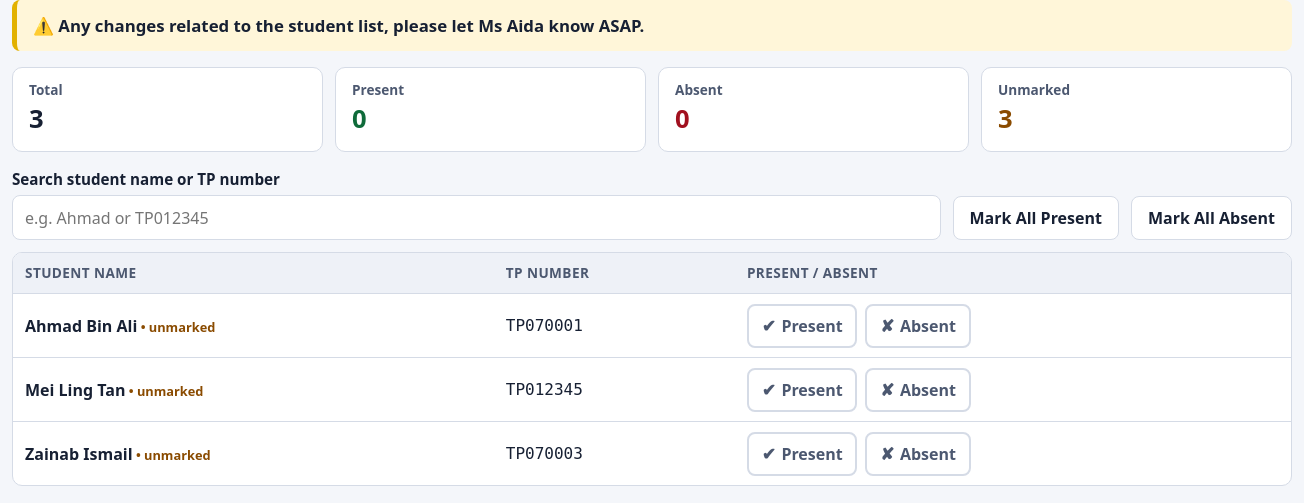
it: AttendanceMarker (§11.4, AC-004, AC-005, AC-011) › search filters by name or TP and keeps selections when cleared (AC-005)
Type "tp0123" into the search field labelled "Search student name or TP number".
click(476, 218); type("tp0123")  # box [12,195,940,240]
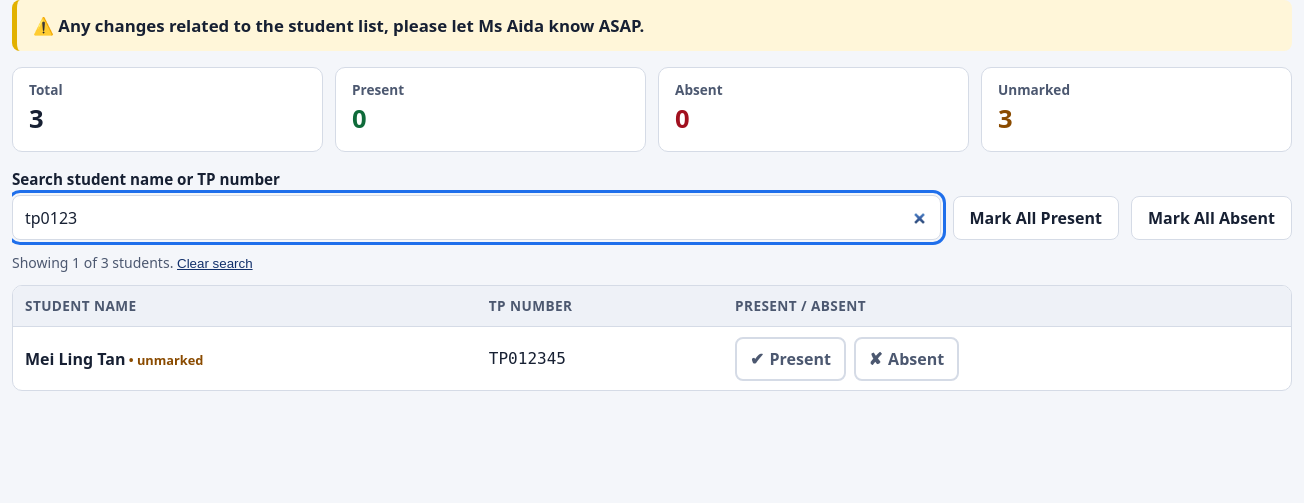
Click the radio button labelled "✘ Absent".
click(906, 358)  # box [854,336,959,380]
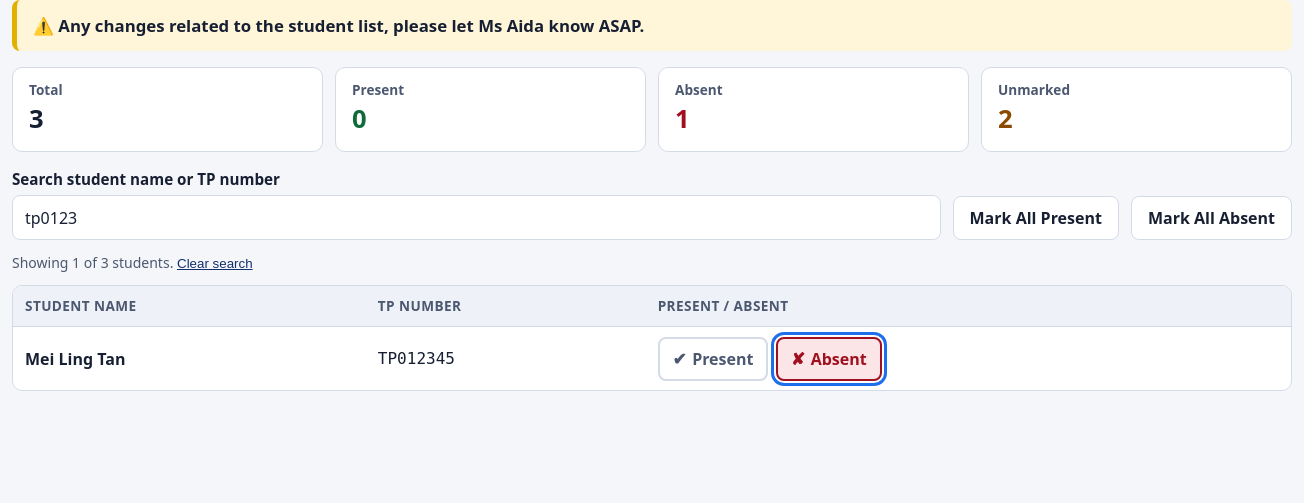
Replace the text in the search field labelled "Search student name or TP number" with "ZAIN" at (476, 218), box [12,195,940,240]
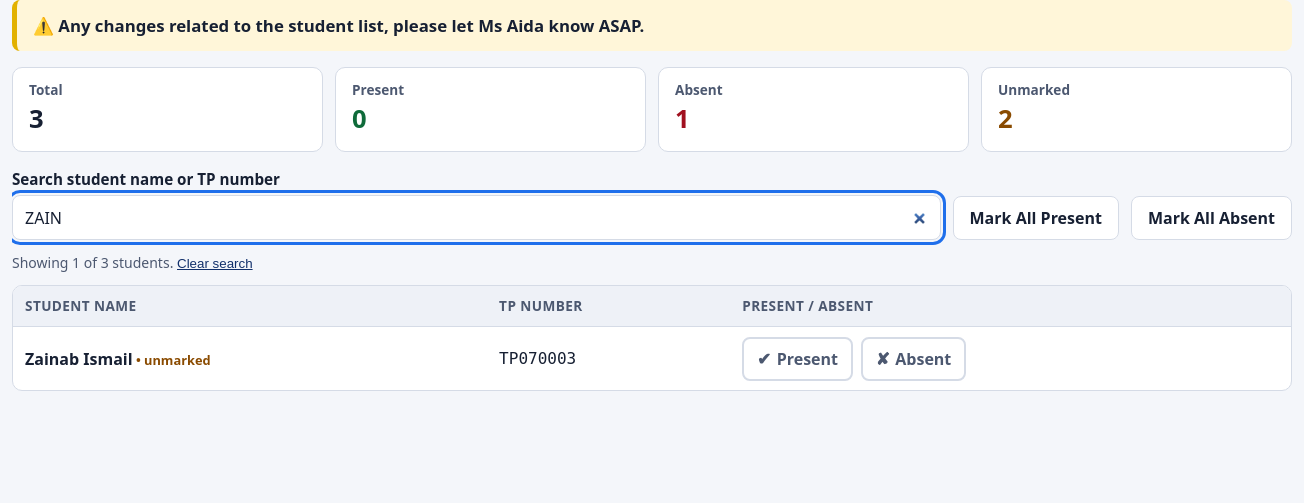
Clear the search field labelled "Search student name or TP number" at (476, 218), box [12,195,940,240]
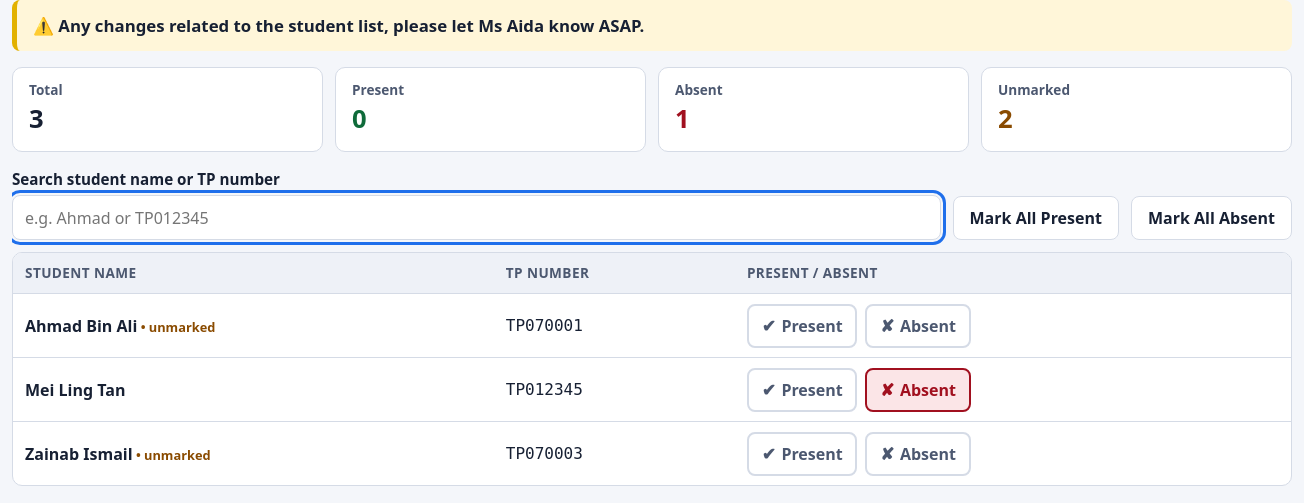
expect the radio button labelled "✘ Absent" in the row of "Mei Ling Tan" is checked: met, box [866,368,971,412]
